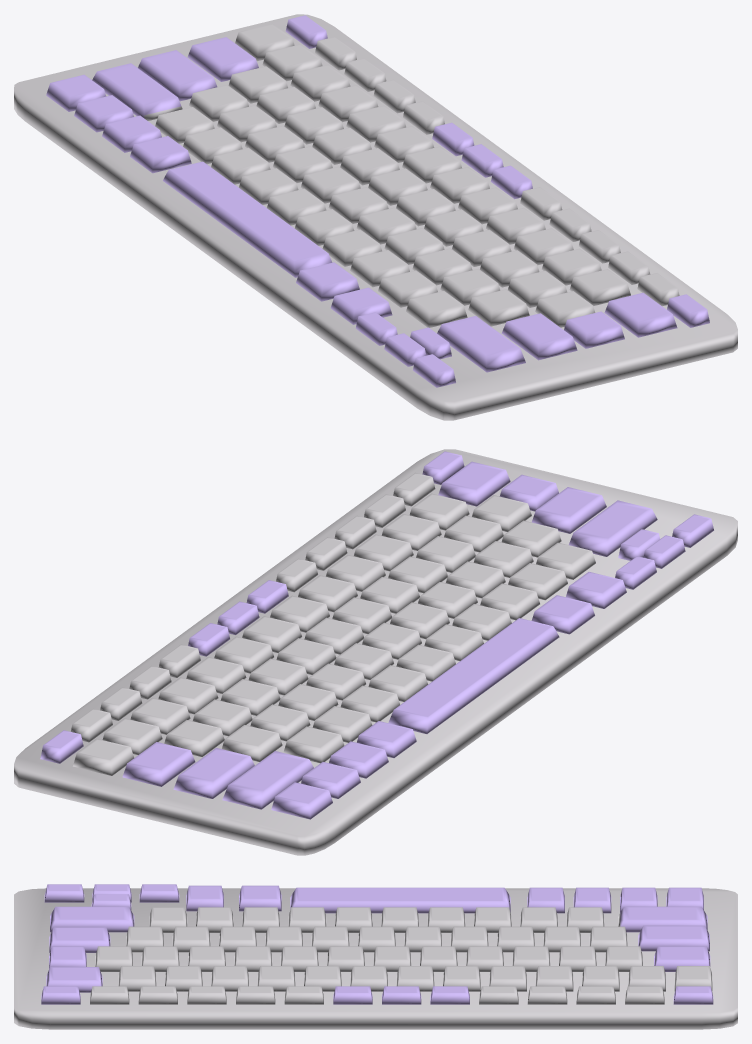
File: klawa.glb
The picture shows the model from 3 angles, top to bottom: view 1: azimuth 30°, elevation 25°; view 2: azimuth 150°, elevation 25°; view 3: azimuth 270°, elevation 25°; orthographic projection. The views are drawn at different scales.
Visible parts, largest first — view 1: Cube.063; view 2: Cube.063; view 3: Cube.063.
Part boxes in pixels (box(x1,y1,x2,y2)): Cube.063: box(14, 14, 737, 420); Cube.063: box(14, 449, 737, 855); Cube.063: box(14, 884, 737, 1029).
Bounding box in the file's own units: 0.0173 × 0.00172 × 0.0422.
